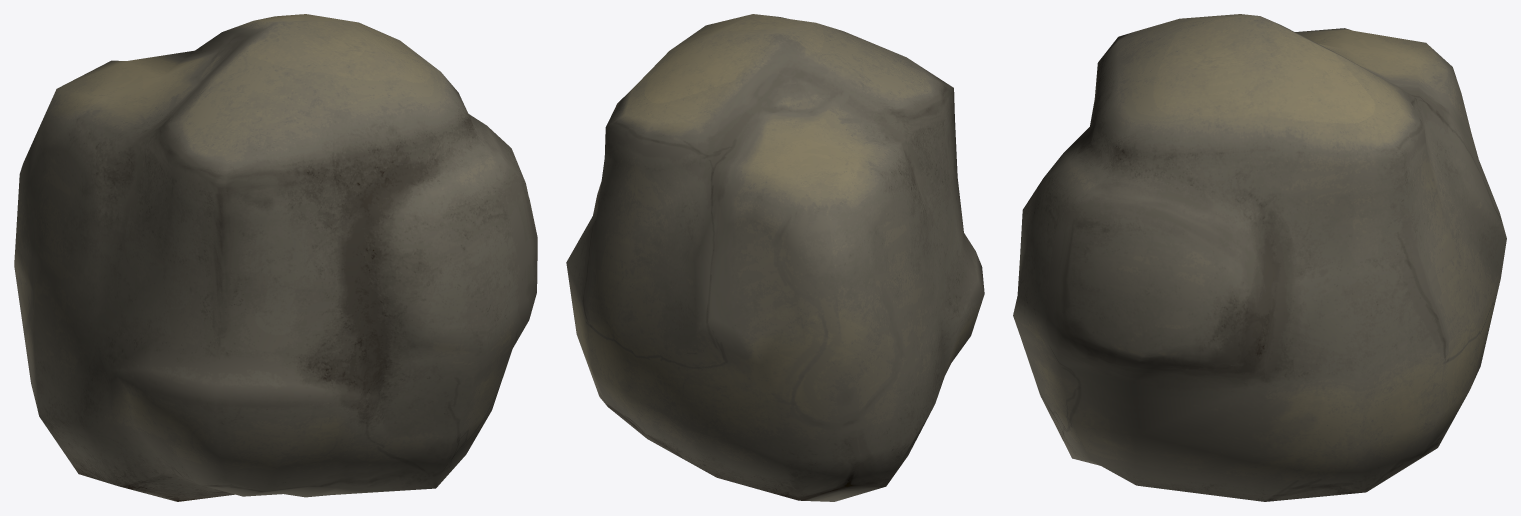
File: Rock_Prop_Redux.fbx
3 renders of one model, left to right at view 1: azimuth 30°, elevation 25°; view 2: azimuth 150°, elevation 25°; view 3: azimuth 270°, elevation 25°, orthographic. The views are drawn at different scales.
Visible parts, largest first — view 1: pCube2; view 2: pCube2; view 3: pCube2.
Boxes of the visible parts, <box> form: pCube2: <box>14,14,537,501</box>; pCube2: <box>566,14,984,501</box>; pCube2: <box>1013,14,1506,501</box>.
Bounding box in the file's own units: 1.26 × 1.37 × 1.31.
